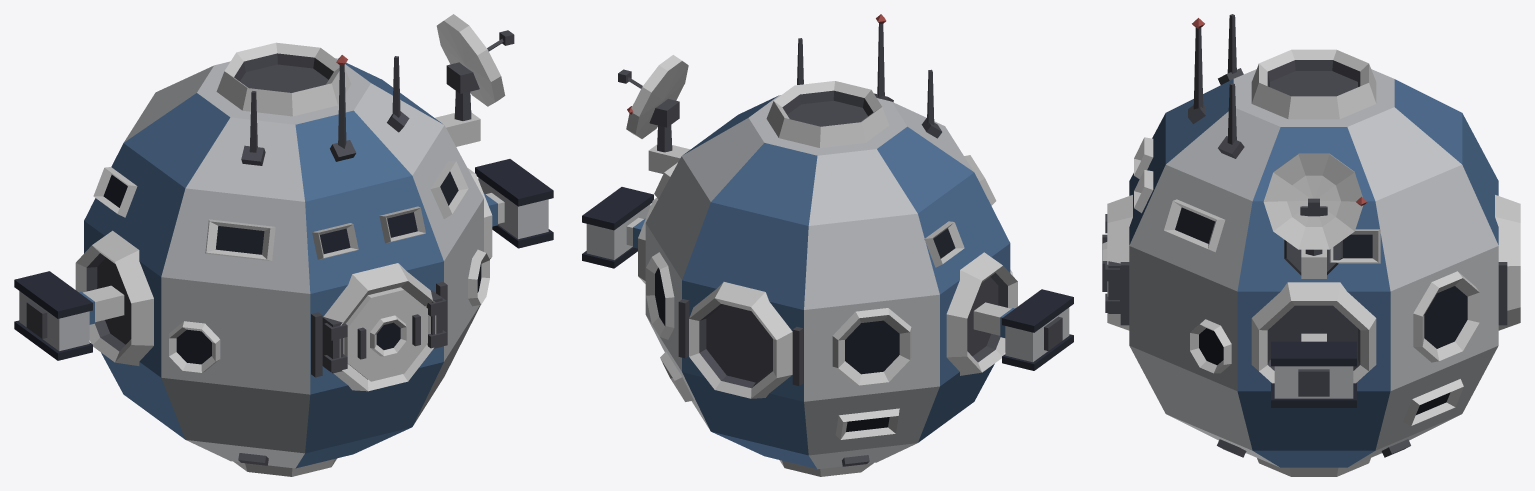
The model's file is station-hub-67f667.glb.
3 views of the same model, side by side, from view 1: azimuth 30°, elevation 25°; view 2: azimuth 150°, elevation 25°; view 3: azimuth 270°, elevation 25° (orthographic). The views are drawn at different scales.
Parts seen in each view (by area): view 1: hull, hatch, dish-tilt, dish, dish-yaw; view 2: hull, dish-tilt, dish, dish-yaw; view 3: hull, dish-tilt, hatch, dish.
Part boxes in pixels (box(x1,y1,x2,y2)): hull: box(14, 42, 553, 476); hatch: box(324, 287, 446, 381); dish-tilt: box(436, 14, 514, 106); dish: box(435, 91, 480, 146); dish-yaw: box(446, 62, 479, 93); hull: box(582, 14, 1073, 476); dish-tilt: box(618, 55, 688, 138); dish: box(648, 125, 690, 173); dish-yaw: box(649, 99, 679, 127); hull: box(1107, 14, 1520, 476); dish-tilt: box(1263, 153, 1367, 249); hatch: box(1102, 214, 1119, 312); dish: box(1301, 249, 1326, 278).
Bounding box in the file's own units: 6.23 × 5.25 × 4.56.
